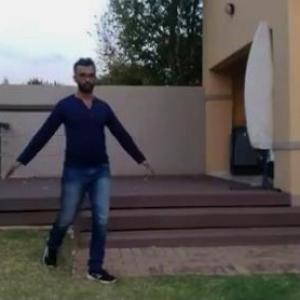land: (10, 55, 160, 284)
